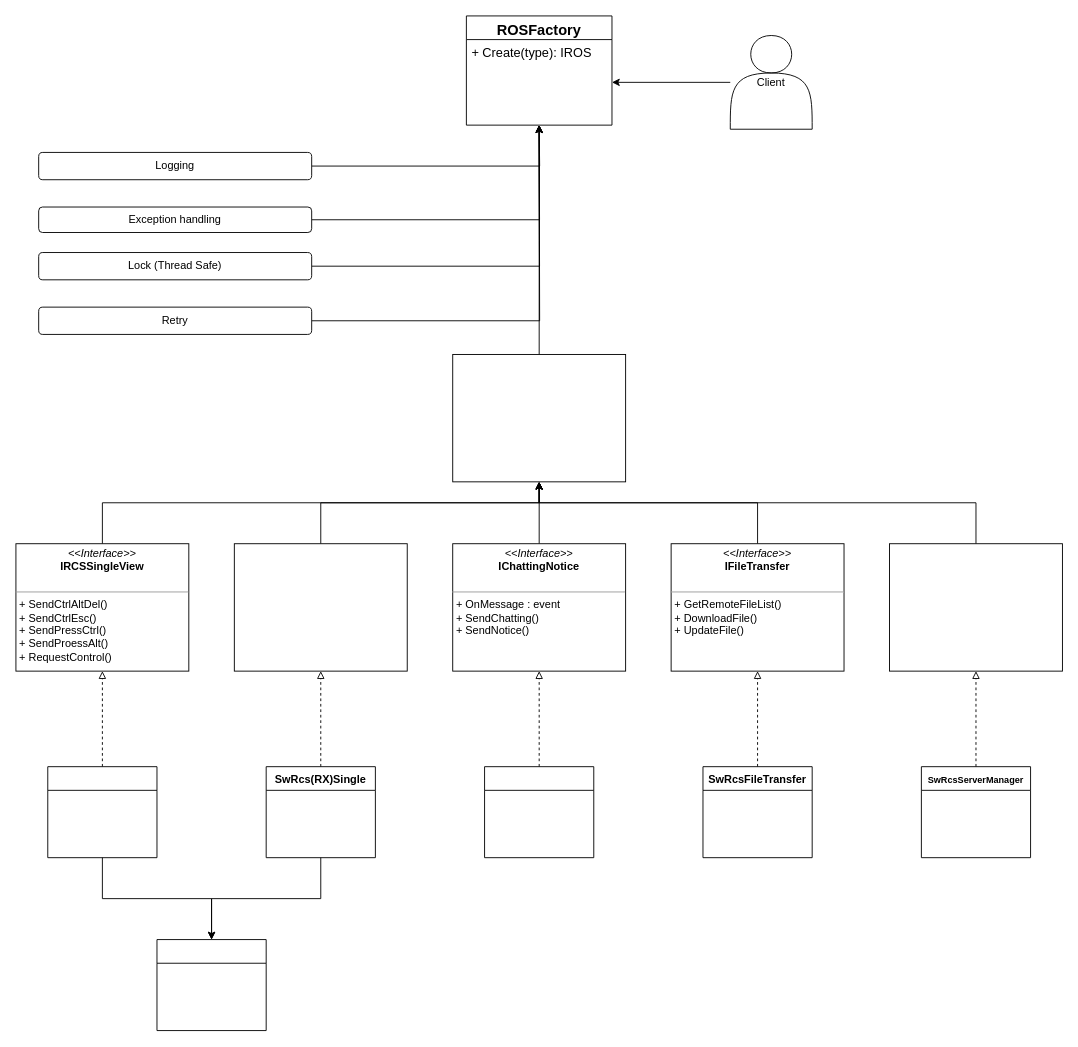
Some shapes in this 1078 by 1047 pixel diagram are drawn without their labels. Each missing label, with the centre of its shape:
<<Interface>> IRCSMultiView + ActiveRendering() + InActiveRendering(): point 320,607
<<Interface>> IROS + Connect + Disconenct + Reconnect + GetServerInfo + Dispose: point 539,418
<<Interface>> IServerManager + RemoteUpdate(): point 975,607
SwRcs(RX)Handle: point 211,985
SwRcs(RX)Multi: point 102,812
SwRcsChatNotice: point 539,812
